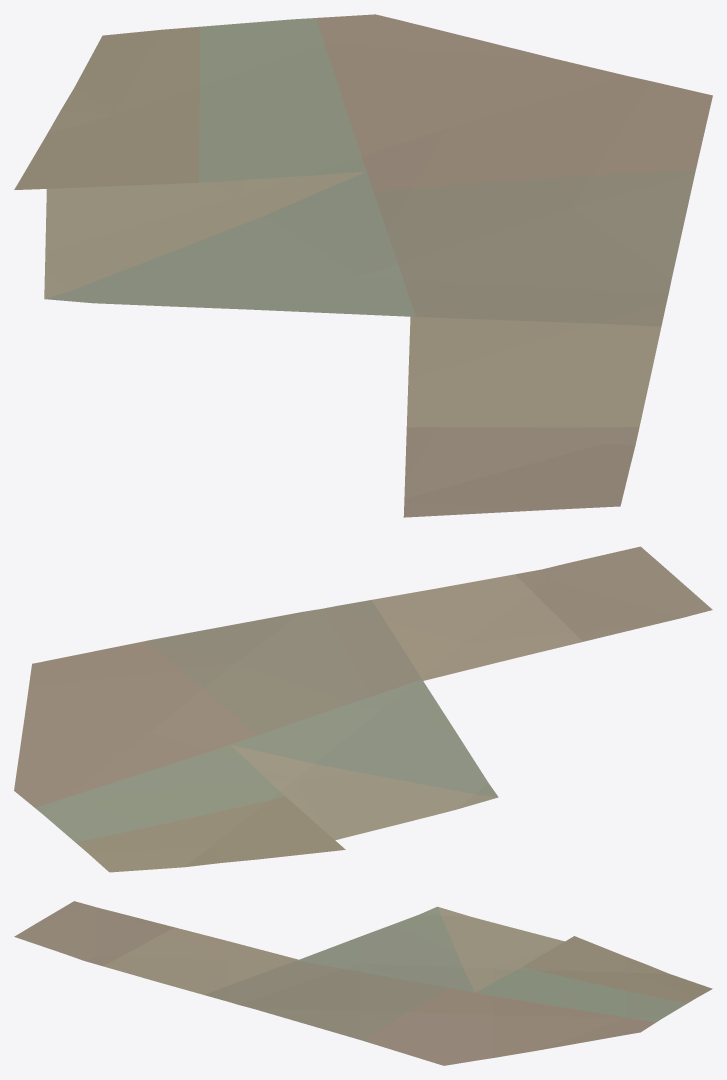
Rendered from farm_6_-4_soil.glb.
3 views of the same model, one above another, from view 1: azimuth 30°, elevation 25°; view 2: azimuth 150°, elevation 25°; view 3: azimuth 270°, elevation 25° (orthographic). The views are drawn at different scales.
Visible parts, largest first — view 1: geometry_0; view 2: geometry_0; view 3: geometry_0.
Boxes of the visible parts, <box> form: geometry_0: <box>14,14,712,517</box>; geometry_0: <box>14,546,712,872</box>; geometry_0: <box>14,901,712,1065</box>.
Bounding box in the file's own units: 254 × 15.55 × 422.
